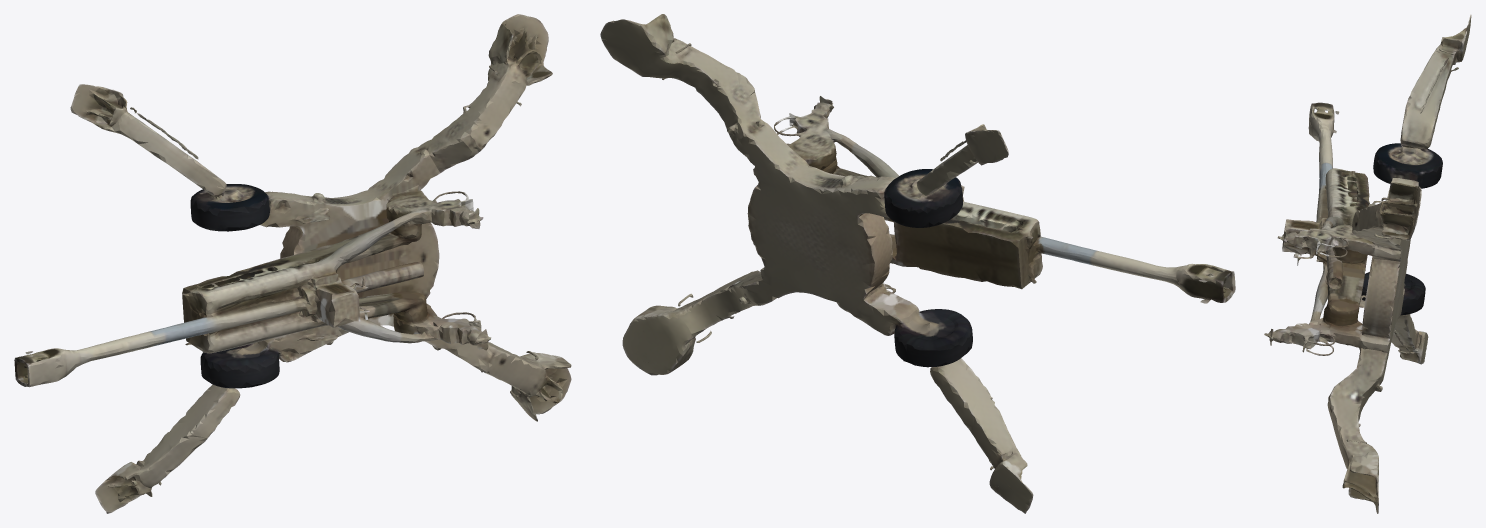
File: M777A2_155mm_Howitzer_AI_Rodin.glb
3 views of the same model, side by side, from view 1: azimuth 30°, elevation 25°; view 2: azimuth 150°, elevation 25°; view 3: azimuth 270°, elevation 25° (orthographic). The views are drawn at different scales.
Visible parts, largest first — view 1: M777A2_155mm_Howitzer; view 2: M777A2_155mm_Howitzer; view 3: M777A2_155mm_Howitzer.
Part boxes in pixels (x1,y1,x2,y2): M777A2_155mm_Howitzer: [14, 14, 571, 513]; M777A2_155mm_Howitzer: [600, 14, 1235, 513]; M777A2_155mm_Howitzer: [1264, 14, 1471, 513].
Size of the model in its own units: 1.94 by 1.3 by 0.7027.
Materials: 1 (1 with a texture image).
